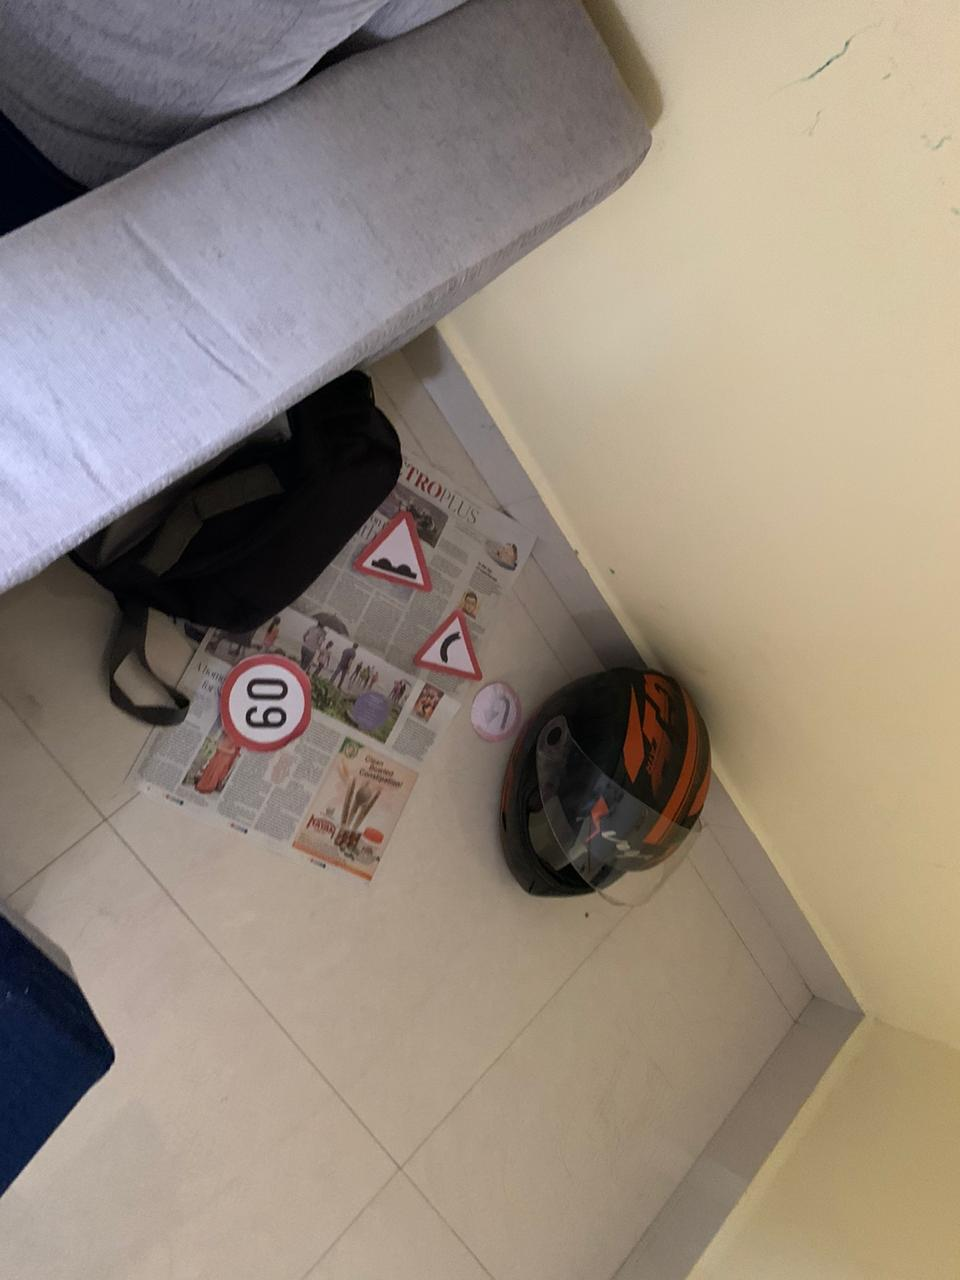LEFT CURVE: (407, 599, 488, 691)
SPEED LIMIT (60 KM/H): (207, 653, 329, 756)
UNEVEN ROAD: (355, 499, 445, 596)
